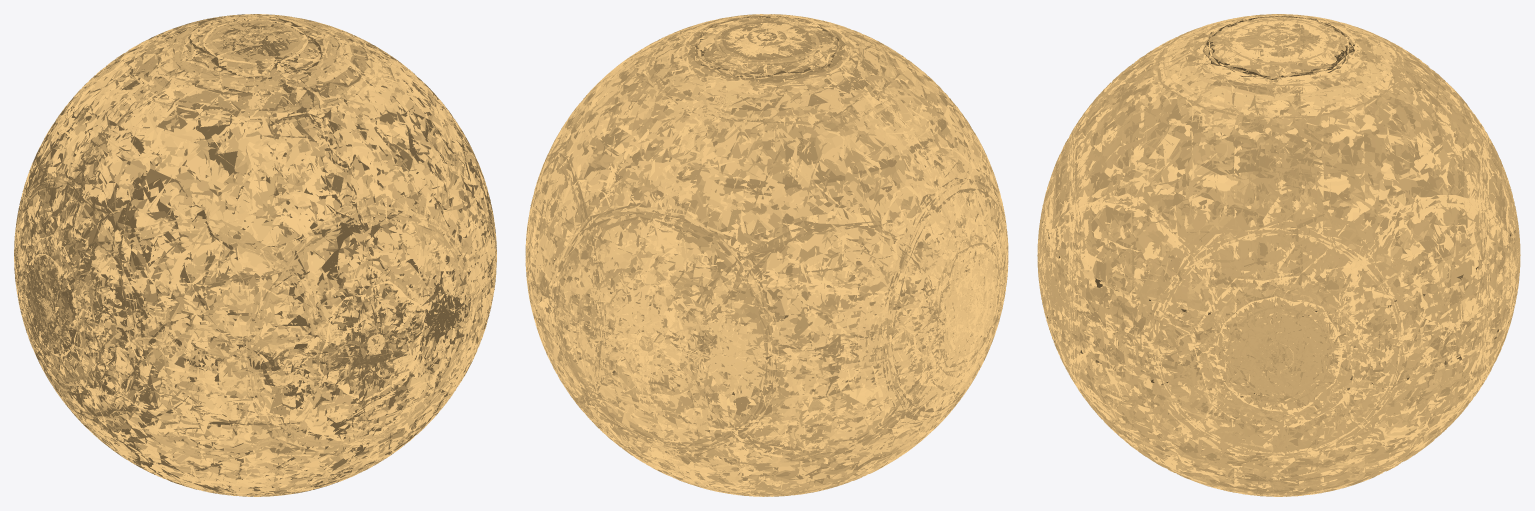
3 renders of one model, left to right at view 1: azimuth 30°, elevation 25°; view 2: azimuth 150°, elevation 25°; view 3: azimuth 270°, elevation 25°, orthographic.
Parts seen in each view (by area): view 1: 17-17-equipment; view 2: 17-17-equipment; view 3: 17-17-equipment.
Boxes of the visible parts, x1,y1,x2,y2 form: 17-17-equipment: [14, 14, 496, 496]; 17-17-equipment: [525, 14, 1008, 496]; 17-17-equipment: [1037, 14, 1520, 496].
Size of the model in its own units: 2 by 2 by 2.
